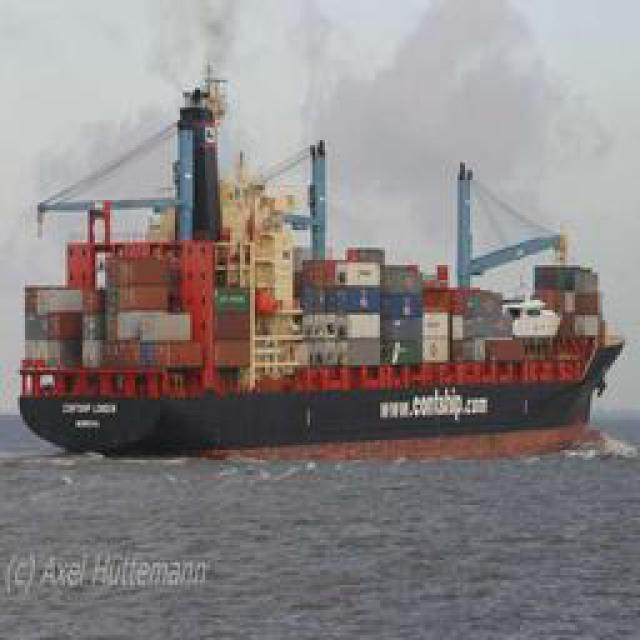Ship: (15, 123, 625, 451)
